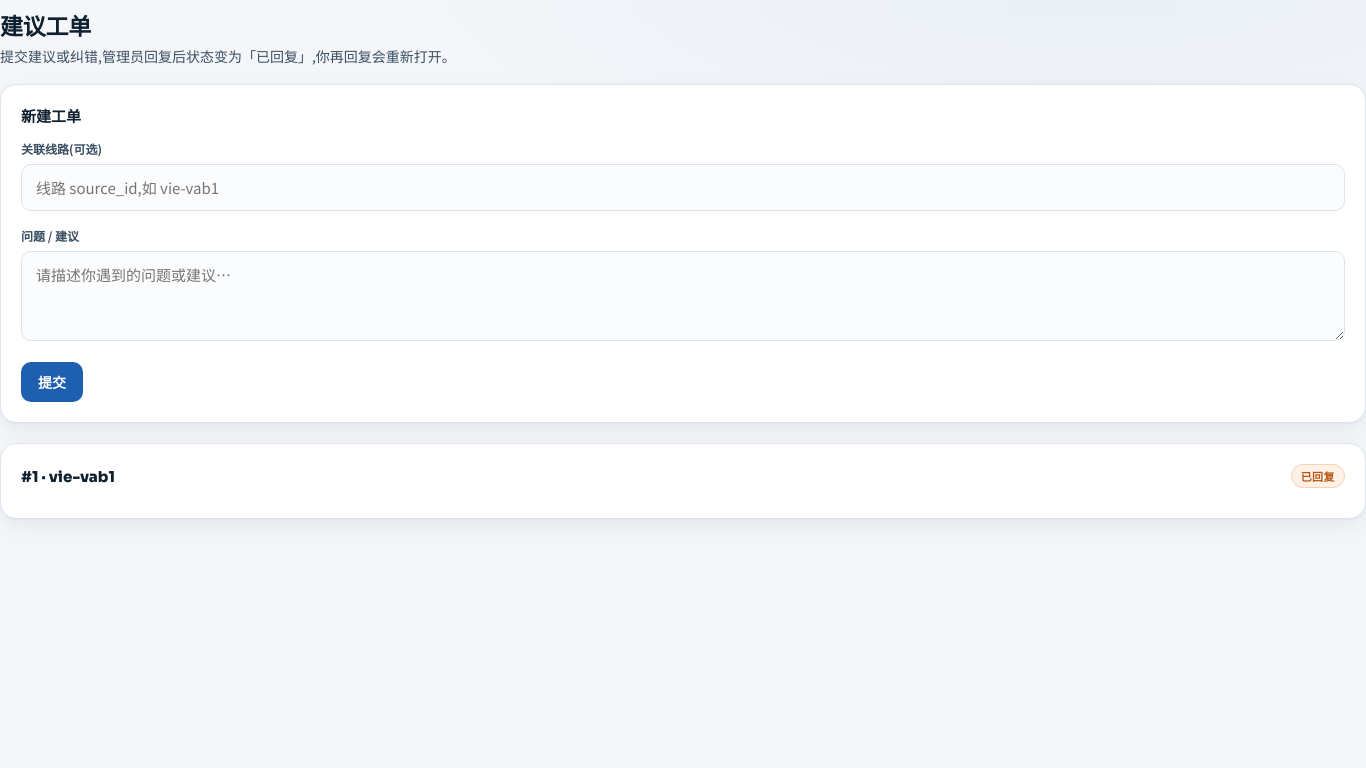
Scenario: TicketsPage › opening a ticket loads thread
Click the heading with test id "open-1" at (68, 476), box [21,466,115,486]
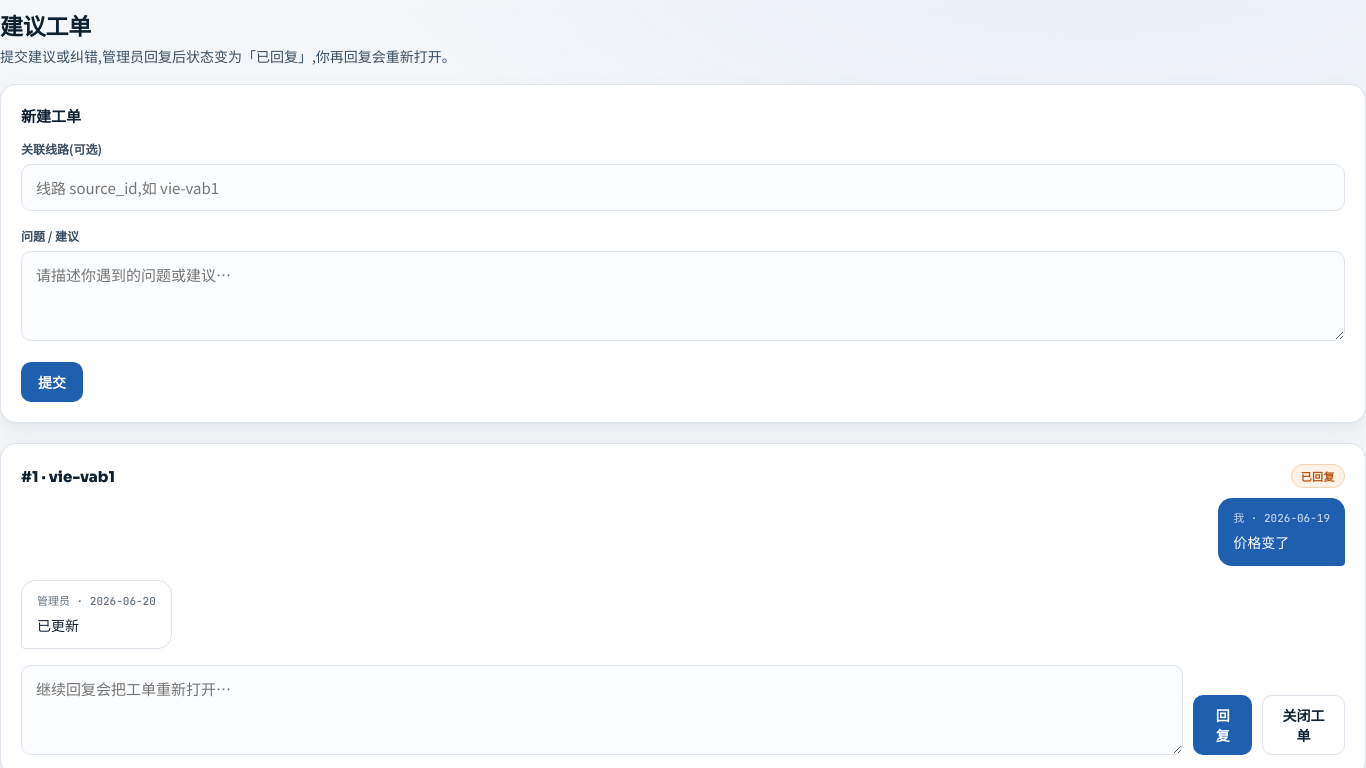
Expected: the text "已更新" is shown, [37,615,79,635]
